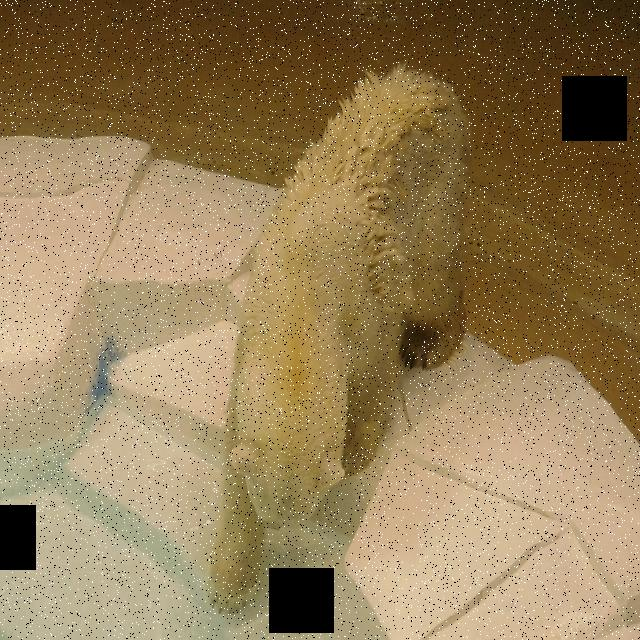Bear: (209, 70, 471, 612)
